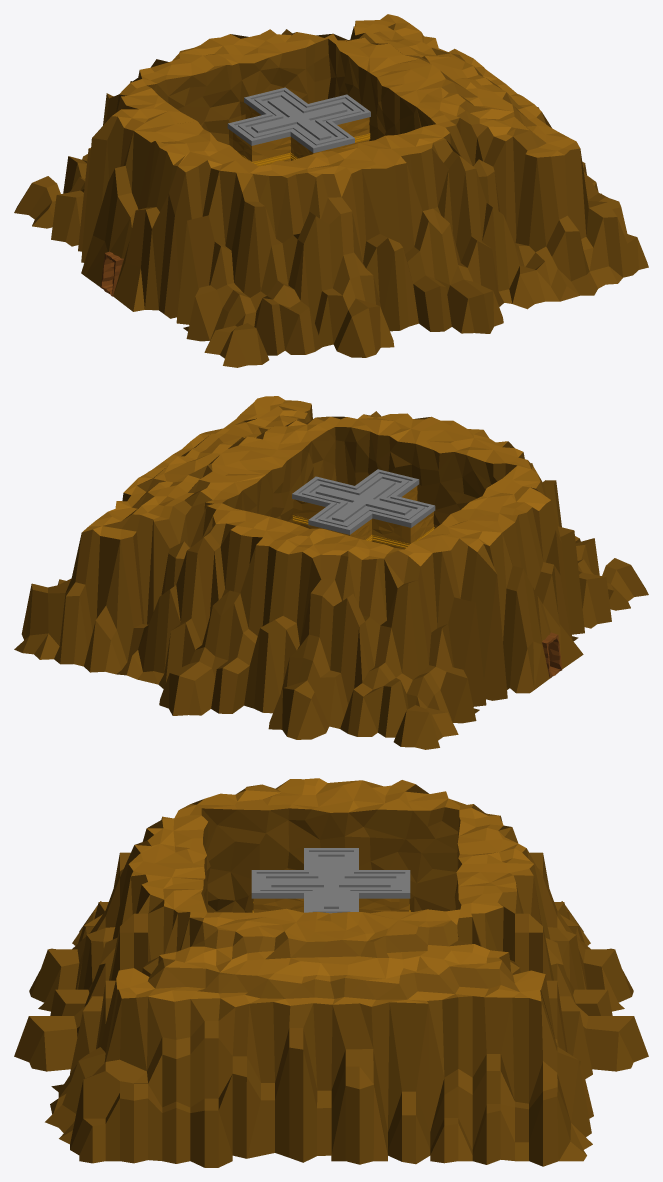
The model's file is Lalibela with Terrain Colored.fbx.
The picture shows the model from 3 angles, top to bottom: view 1: azimuth 30°, elevation 25°; view 2: azimuth 150°, elevation 25°; view 3: azimuth 270°, elevation 25°; orthographic projection. The views are drawn at different scales.
Parts seen in each view (by area): view 1: Plane, Lalibela, Door; view 2: Plane, Lalibela, Door; view 3: Plane, Lalibela.
Boxes of the visible parts, box(x1,y1,x2,y2) form: Plane: box(14, 14, 648, 367); Lalibela: box(227, 87, 370, 166); Door: box(100, 251, 123, 296); Plane: box(14, 396, 648, 749); Lalibela: box(292, 469, 435, 549); Door: box(542, 632, 562, 678); Plane: box(14, 778, 648, 1167); Lalibela: box(251, 848, 410, 913).
Bounding box in the file's own units: 6683 × 2092 × 7220.
1 material, 1 textured.
